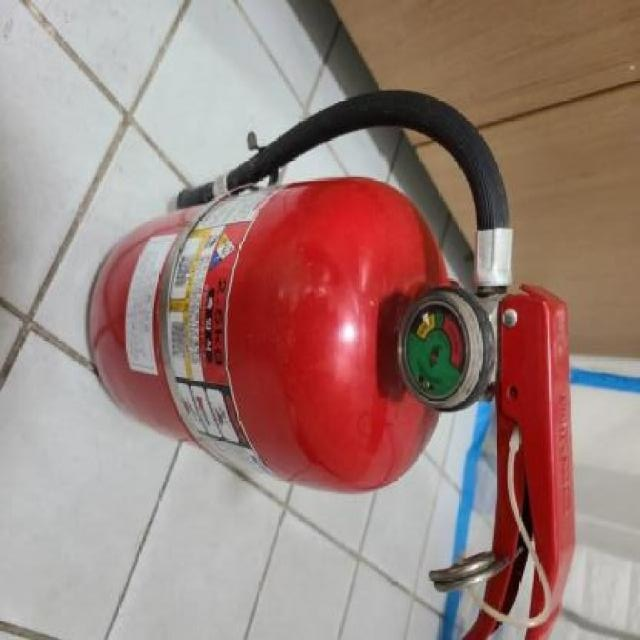fire extinguisher: (88, 87, 577, 640)
